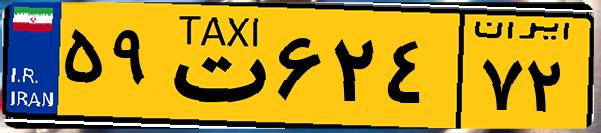2: (330, 28, 385, 110), (525, 38, 570, 115)
4: (385, 28, 445, 110)
5: (57, 26, 110, 100)
6: (270, 28, 330, 110)
7: (475, 38, 525, 113)
9: (110, 28, 158, 98)
ت: (158, 12, 270, 120)
